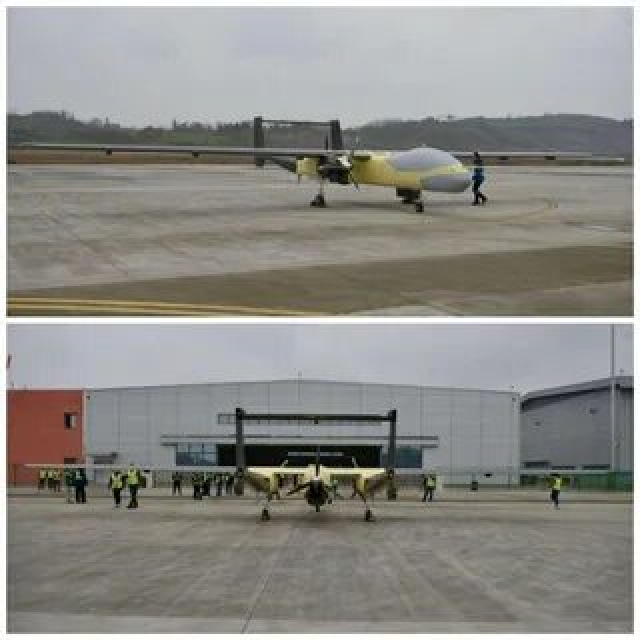military drone: (22, 407, 616, 520), (18, 115, 623, 213)
